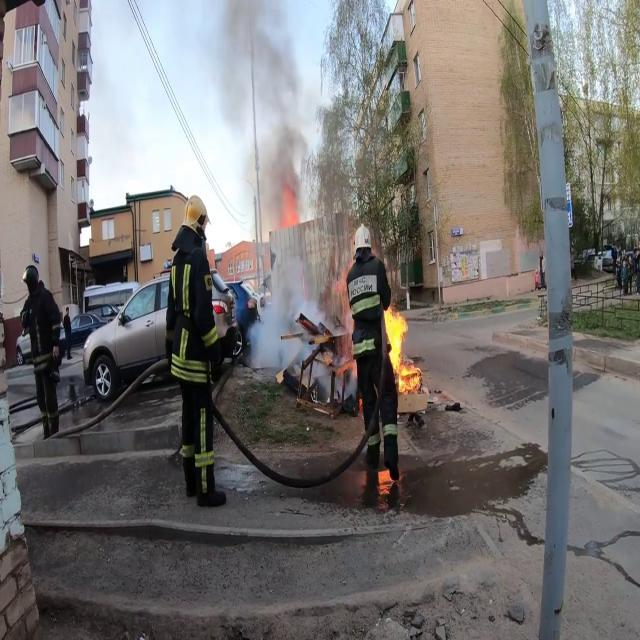Fire: (382, 294, 418, 391)
Smoke: (230, 1, 348, 371)
